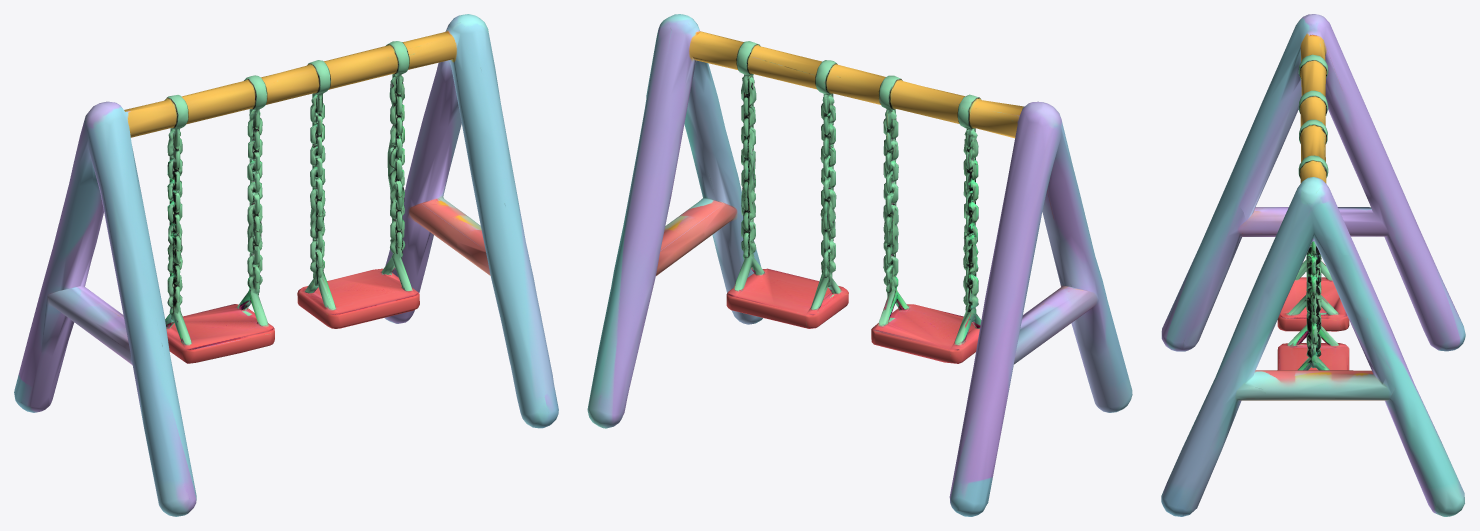
The model's file is static.glb.
3 views of the same model, side by side, from view 1: azimuth 30°, elevation 25°; view 2: azimuth 150°, elevation 25°; view 3: azimuth 270°, elevation 25° (orthographic). The views are drawn at different scales.
Parts seen in each view (by area): view 1: Mesh_0; view 2: Mesh_0; view 3: Mesh_0.
Part boxes in pixels (bbox=[...]): Mesh_0: bbox=[14, 14, 558, 516]; Mesh_0: bbox=[587, 14, 1132, 516]; Mesh_0: bbox=[1161, 14, 1465, 516].
Bounding box in the file's own units: 1.9 × 1.63 × 1.34.
1 material, 1 textured.
